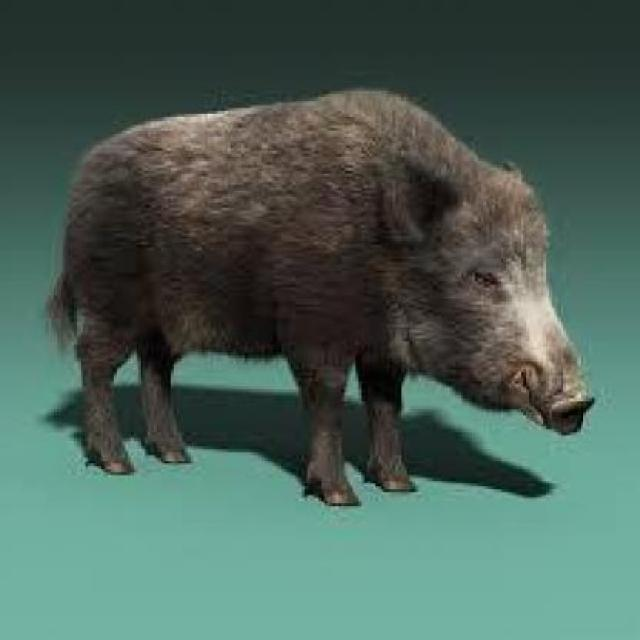wildboar: (46, 81, 599, 514)
